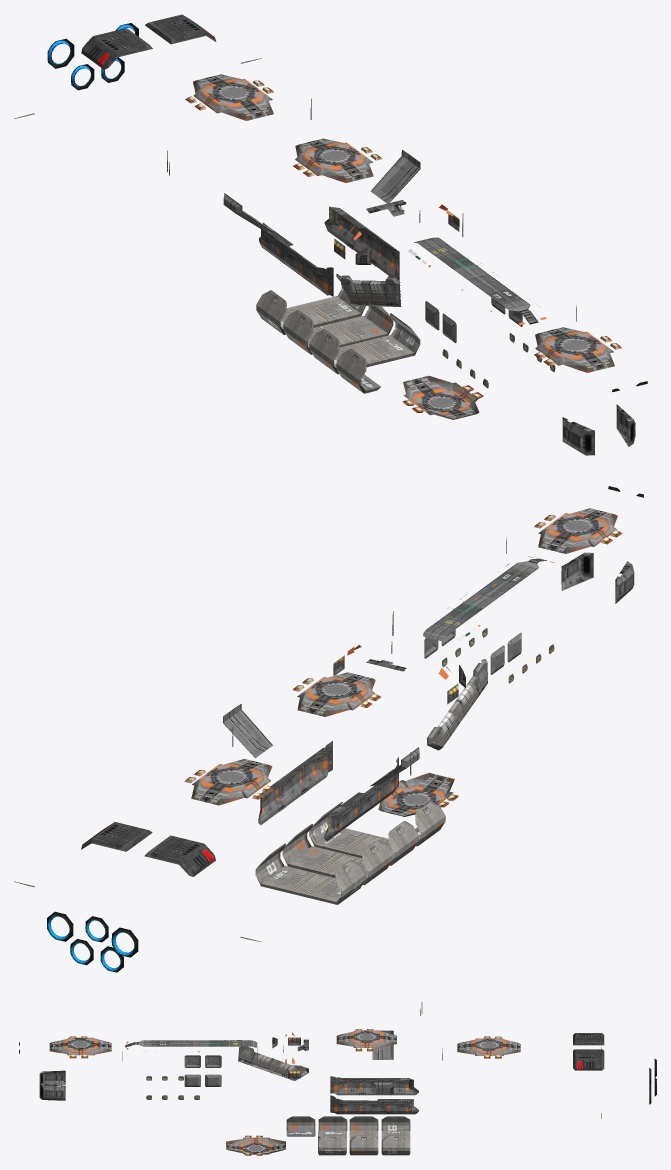
Rendered from Goblins.obj.
The picture shows the model from 3 angles, top to bottom: view 1: azimuth 30°, elevation 25°; view 2: azimuth 150°, elevation 25°; view 3: azimuth 270°, elevation 25°; orthographic projection. The views are drawn at different scales.
Visible parts, largest first — view 1: Hgn_Front, Hgn_Leftover, Hgn_Burner; view 2: Hgn_Front, Hgn_Leftover, Hgn_Burner; view 3: Hgn_Front, Hgn_Leftover.
Part boxes in pixels (box(x1,y1,x2,y2)): Hgn_Front: box(14, 14, 647, 455); Hgn_Leftover: box(341, 246, 401, 306); Hgn_Burner: box(47, 23, 138, 90); Hgn_Front: box(14, 486, 643, 941); Hgn_Leftover: box(426, 659, 487, 750); Hgn_Burner: box(47, 911, 138, 972); Hgn_Front: box(19, 1001, 604, 1155); Hgn_Leftover: box(238, 1037, 308, 1080).
Bounding box in the file's own units: 103 × 72.82 × 389.
